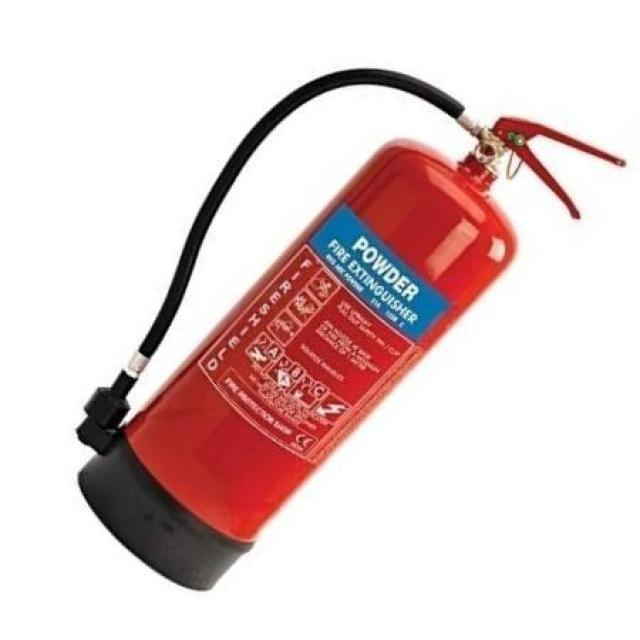fire_extinguisher: (65, 58, 629, 600)
